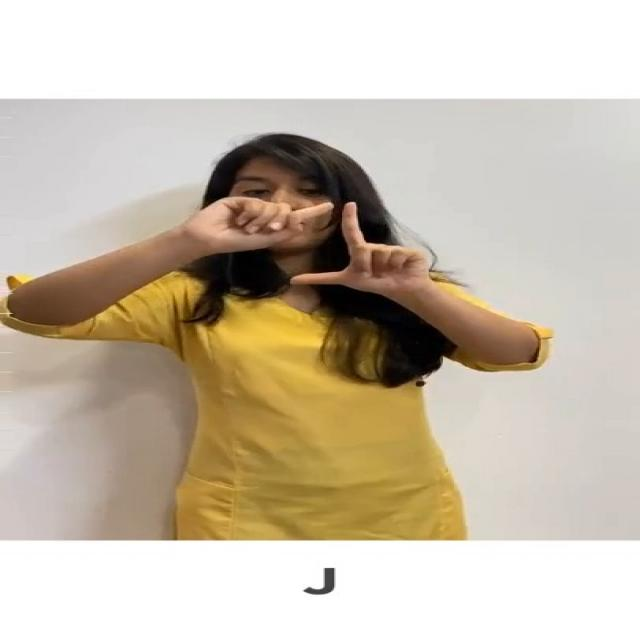J: (172, 187, 458, 311)
